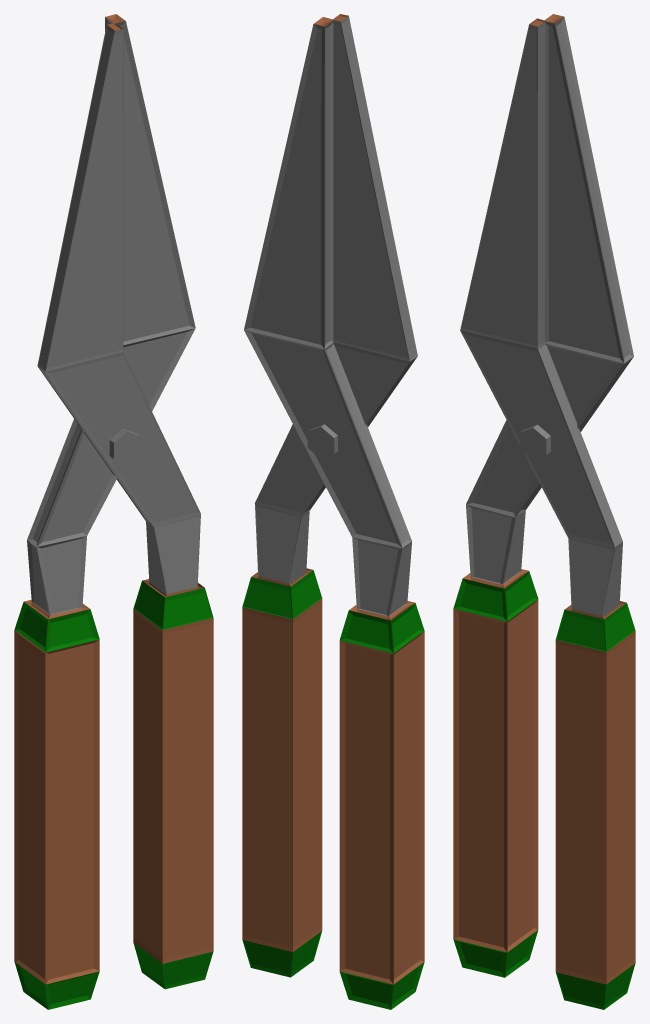
The model's file is Pruner-1.fbx.
3 renders of one model, left to right at view 1: azimuth 30°, elevation 25°; view 2: azimuth 150°, elevation 25°; view 3: azimuth 330°, elevation 25°, orthographic.
Parts seen in each view (by area): view 1: Pruner.002, Pruner.001, Bolt; view 2: Pruner.001, Pruner.002, Bolt; view 3: Pruner.002, Pruner.001, Bolt.
Boxes of the visible parts, x1,y1,x2,y2 form: Pruner.002: (37, 23, 213, 989); Pruner.001: (14, 14, 195, 1009); Bolt: (109, 428, 140, 463); Pruner.001: (244, 17, 424, 1009); Pruner.002: (242, 14, 417, 977); Bolt: (307, 424, 337, 458); Pruner.002: (460, 18, 635, 1009); Pruner.001: (453, 14, 633, 977); Bolt: (520, 424, 550, 459).
Bounding box in the file's own units: 51.94 × 21.49 × 297.
